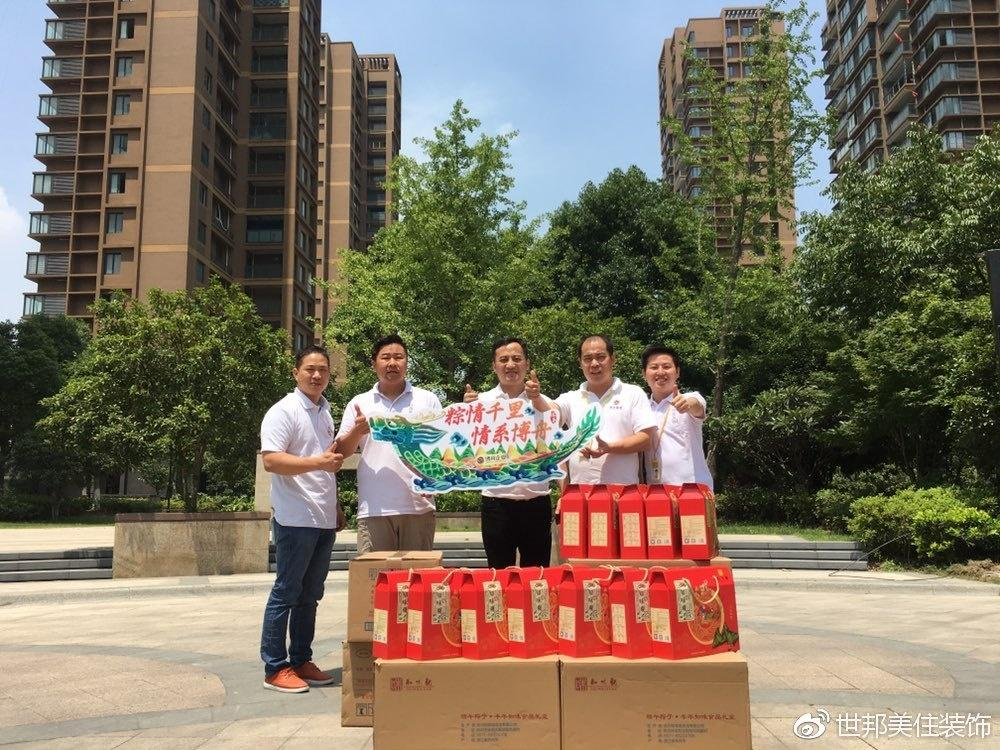NoHelmet: (642, 343, 681, 395), (372, 334, 409, 387), (296, 344, 330, 401), (577, 333, 615, 384), (492, 337, 529, 388)
